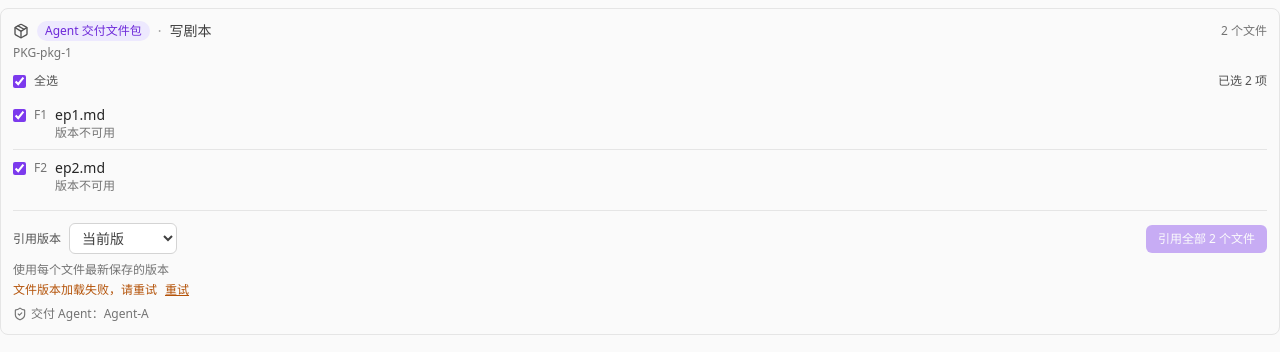
Scenario: 文件包统一引用 › 加载失败可重试，不能产生引用
Expected: the message "文件版本加载失败，请重试 重试" is shown, [13,281,189,298]
Expected: the button "引用全部 2 个文件" is disabled, [1146,224,1267,252]
Click the button "重试".
click(177, 290)  # box [165,282,189,298]
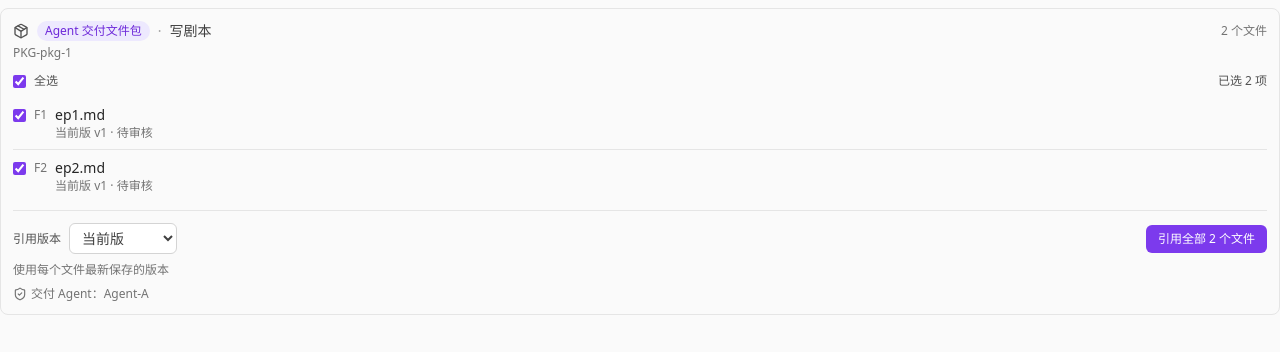
Expected: the button "引用全部 2 个文件" is enabled, [1146,224,1267,252]
